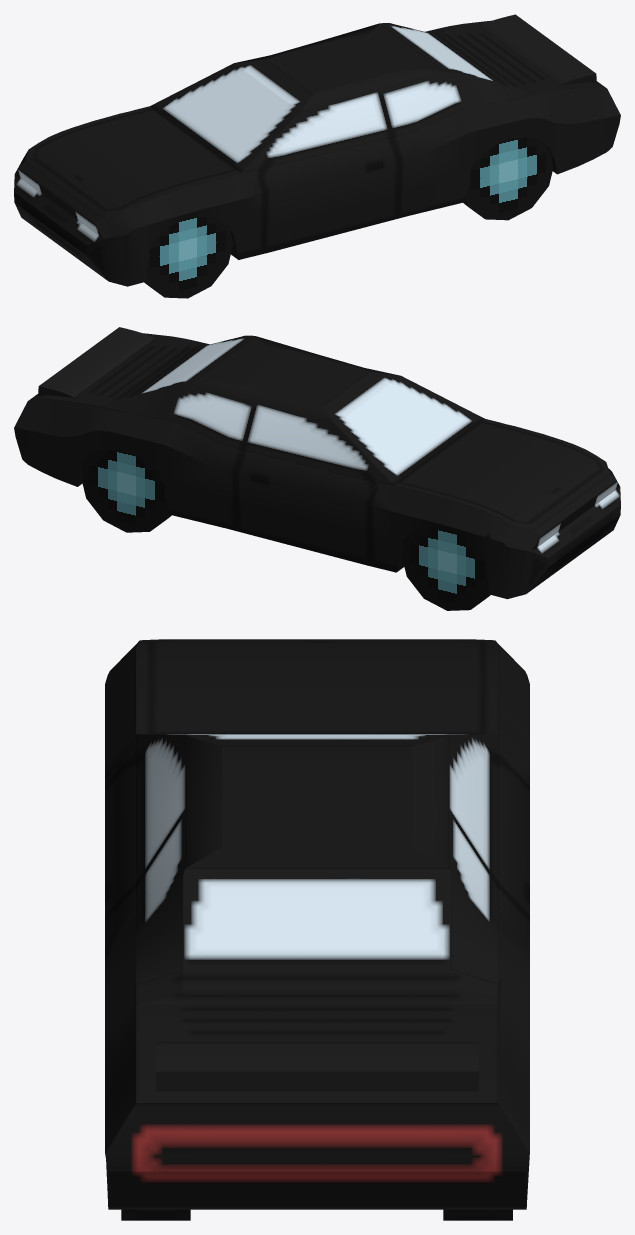
The model's file is car_test.fbx.
3 views of the same model, one above another, from view 1: azimuth 30°, elevation 25°; view 2: azimuth 150°, elevation 25°; view 3: azimuth 270°, elevation 25° (orthographic). The views are drawn at different scales.
Visible parts, largest first — view 1: pCylinder8; view 2: pCylinder8; view 3: pCylinder8.
Boxes of the visible parts, x1,y1,x2,y2 form: pCylinder8: (14, 14, 620, 298); pCylinder8: (14, 327, 620, 610); pCylinder8: (105, 639, 529, 1220).
Size of the model in its own units: 21.37 by 5.97 by 7.59.
